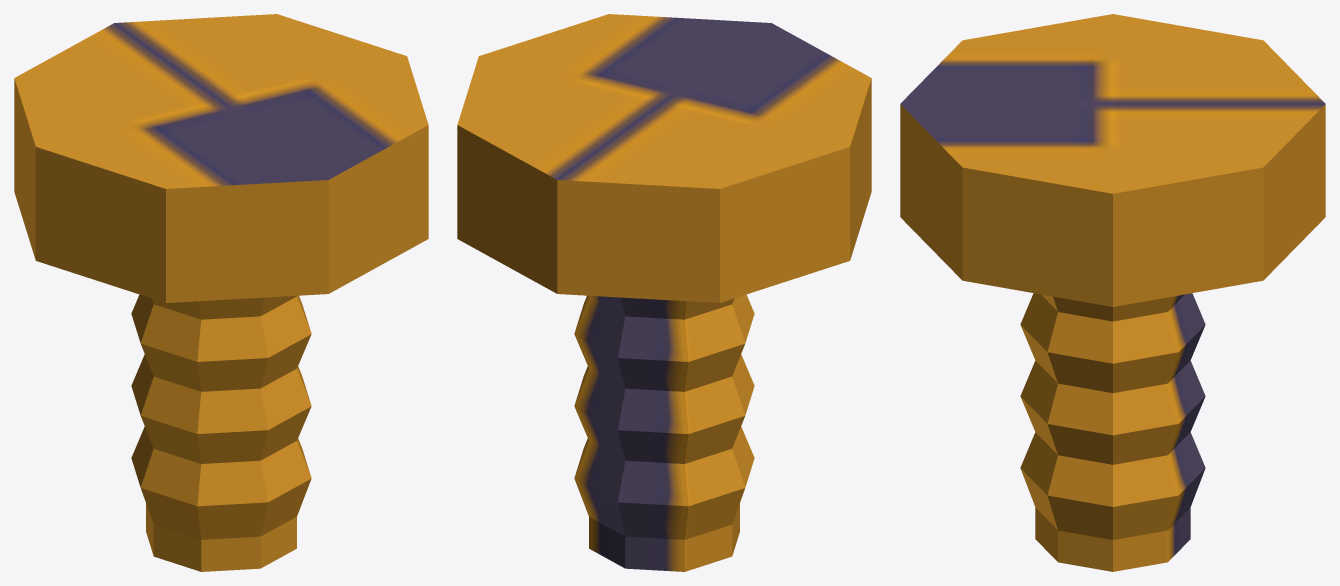
Rendered from Chariot03_lingjian_01.FBX.
The picture shows the model from 3 angles, left to right: view 1: azimuth 30°, elevation 25°; view 2: azimuth 150°, elevation 25°; view 3: azimuth 270°, elevation 25°; orthographic projection.
Parts seen in each view (by area): view 1: Chariot03_lingjian_01; view 2: Chariot03_lingjian_01; view 3: Chariot03_lingjian_01.
Boxes of the visible parts, x1=… form: Chariot03_lingjian_01: x1=14, y1=14, x2=428, y2=571; Chariot03_lingjian_01: x1=457, y1=14, x2=871, y2=571; Chariot03_lingjian_01: x1=900, y1=14, x2=1325, y2=571.
Size of the model in its own units: 0.1756 by 0.1982 by 0.1756.
